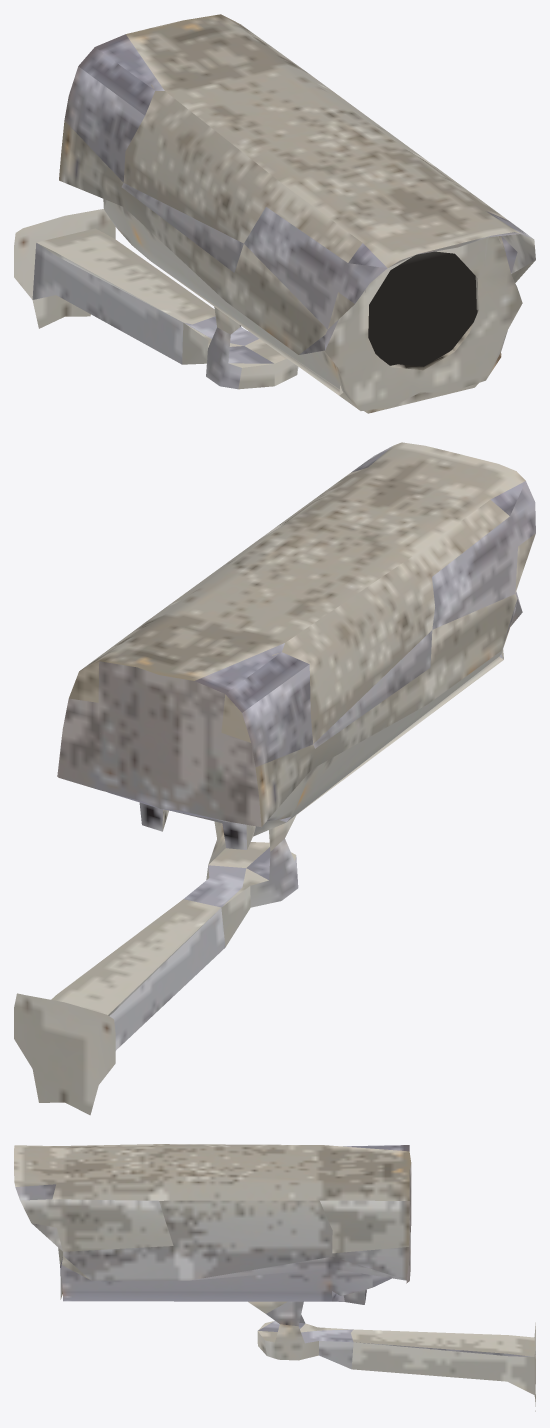
Rendered from security_camera_01.glb.
3 renders of one model, top to bottom at view 1: azimuth 30°, elevation 25°; view 2: azimuth 150°, elevation 25°; view 3: azimuth 270°, elevation 25°, orthographic. The views are drawn at different scales.
Visible parts, largest first — view 1: mesh; view 2: mesh; view 3: mesh.
Boxes of the visible parts, x1=… form: mesh: x1=14, y1=14, x2=535, y2=413; mesh: x1=14, y1=442, x2=535, y2=1115; mesh: x1=14, y1=1144, x2=535, y2=1411.
Size of the model in its own units: 0.1682 by 0.286 by 0.5556.
Materials: 1 (1 with a texture image).
